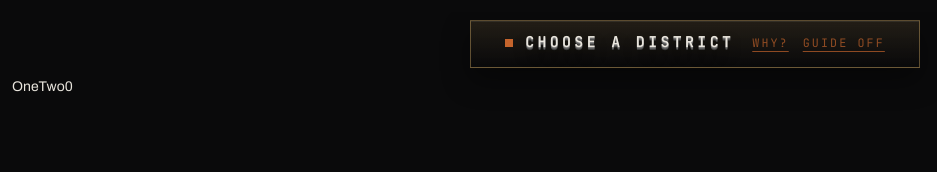
Test: guide layer › GUIDE OFF removes glow and text, and is remembered
The width and height of the screenshot is (937, 172).
Click the button "GUIDE OFF" at (844, 44), box [803,31,885,56]
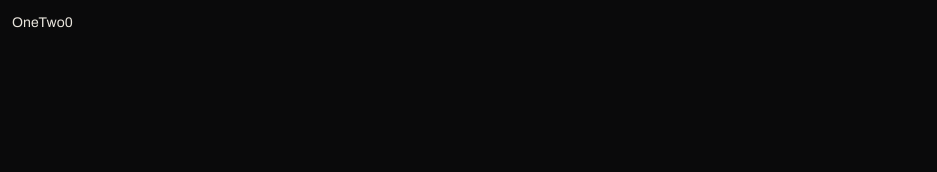
Check: the text "CHOOSE A DISTRICT" is gone
